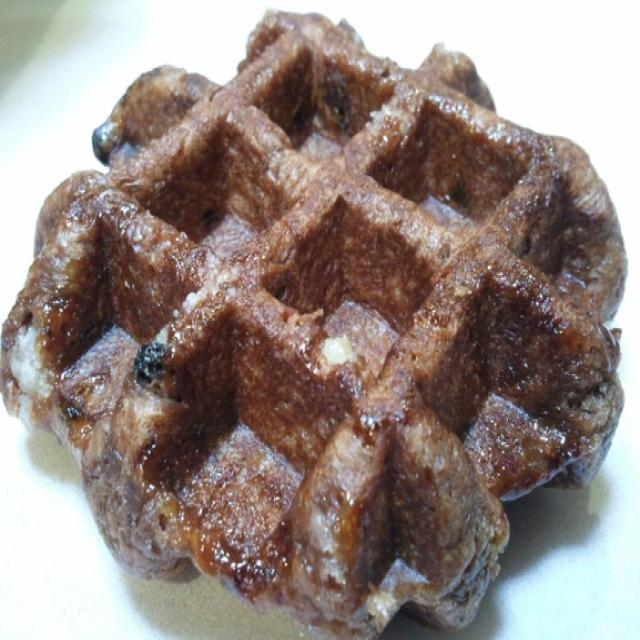炸货点心: (18, 18, 618, 628)
蛋糕甜品: (18, 18, 618, 628)
